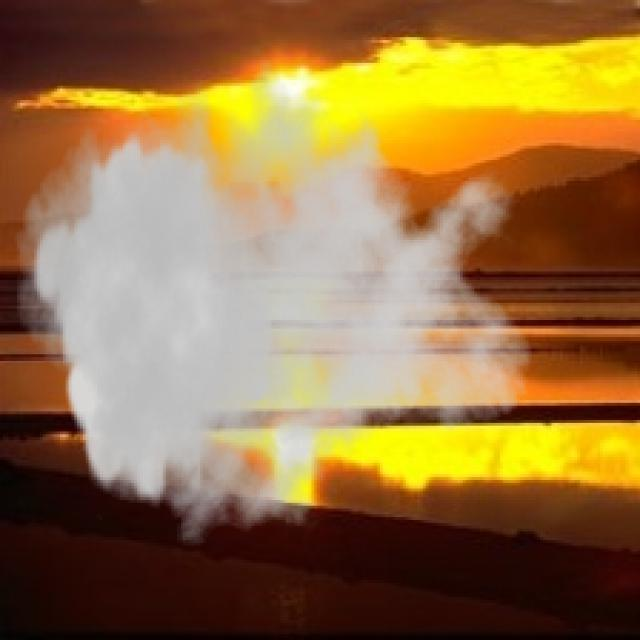Smoke: (14, 34, 534, 554)
